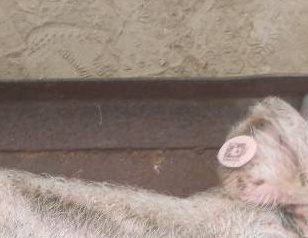text: (202, 125, 269, 177)
